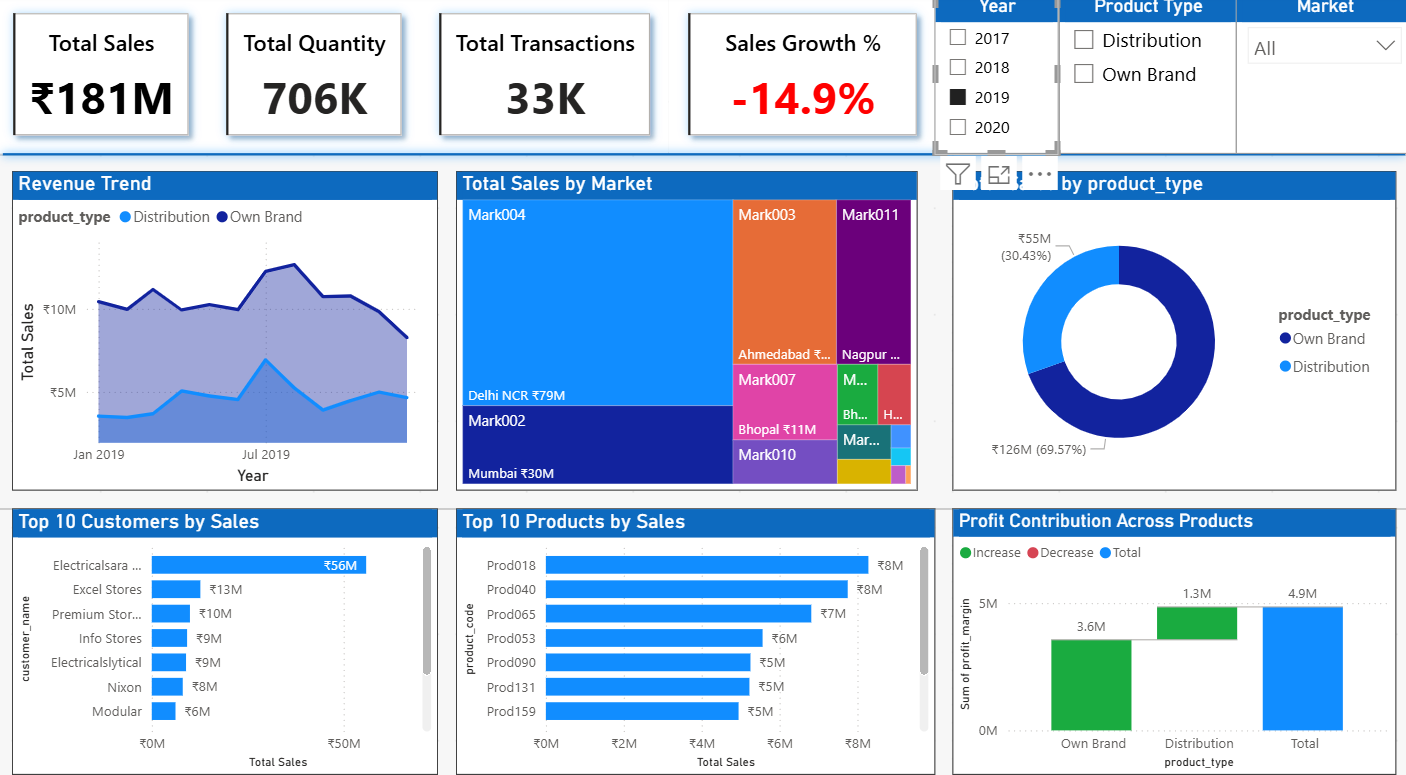

What the dashboard file says about the page in this screenshot:
{"tool":"powerbi","page":{"name":"Page 1","canvas":[1280,720],"ordinal":0},"visuals":[{"type":"shape","box":[0,0,1280,144],"z":0},{"type":"shape","box":[0,144,1280,320],"z":1000},{"type":"shape","box":[0,464,1280,256],"z":2000},{"type":"cardVisual","title":"Total Sales","fields":{"Data":["transactions.Total Sales"]},"box":[0,0,192,144],"z":3000},{"type":"cardVisual","title":"Total Sales","fields":{"Data":["transactions.Sales Growth %"]},"box":[608,0,240,144],"z":4000},{"type":"cardVisual","title":"Total Sales","fields":{"Data":["transactions.Total Quantity"]},"box":[192,0,192,144],"z":5000},{"type":"cardVisual","title":"Total Sales","fields":{"Data":["transactions.Total Transactions"]},"box":[384,0,224,144],"z":6000},{"type":"shape","box":[0,128,1280,32],"z":7000},{"type":"clusteredBarChart","title":"Top 10 Products by Sales","fields":{"Category":["transactions.product_code"],"Y":["transactions.Total Sales"]},"box":[416,464,432,240],"z":8000},{"type":"treemap","title":"Total Sales by Market","fields":{"Group":["transactions.market_code"],"Values":["transactions.Total Sales"],"Details":["markets.markets_name"]},"box":[416,160,416,288],"z":9000},{"type":"clusteredBarChart","title":"Top 10 Customers by Sales","fields":{"Category":["customers.customer_name"],"Y":["transactions.Total Sales"]},"box":[16,464,384,240],"z":10000},{"type":"donutChart","fields":{"Y":["transactions.Total Sales"],"Category":["products.product_type"]},"box":[864,160,400,288],"z":11000},{"type":"lineChart","title":"Revenue Trend","fields":{"Y":["transactions.Total Sales"],"Category":["date.cy_date.Variation.Date Hierarchy.Year","date.cy_date.Variation.Date Hierarchy.Month"],"Series":["products.product_type"]},"box":[16,160,384,288],"z":12000},{"type":"slicer","title":"Year","fields":{"Values":["date.year"]},"box":[848,0,112,144],"z":13000},{"type":"slicer","title":"Product Type","fields":{"Values":["products.product_type"]},"box":[960,0,160,144],"z":14000},{"type":"slicer","title":"Market","fields":{"Values":["markets.markets_name"]},"box":[1120,0,160,144],"z":15000},{"type":"waterfallChart","title":"Profit Contribution Across Products","fields":{"Category":["products.product_type"],"Y":["Sum(transactions.profit_margin)"]},"box":[864,464,400,240],"z":16000}]}

Visuals, with their boxes in screenshot pixels (x1, y1, x2, y2), scaled from the page's 1280x720 canvas onto the 1406x775 screenshot:
shape: detection(0, 0, 1405, 155)
shape: detection(0, 155, 1405, 499)
shape: detection(0, 499, 1405, 774)
"Total Sales" cardVisual: detection(0, 0, 211, 155)
"Total Sales" cardVisual: detection(668, 0, 931, 155)
"Total Sales" cardVisual: detection(211, 0, 422, 155)
"Total Sales" cardVisual: detection(422, 0, 668, 155)
shape: detection(0, 138, 1405, 172)
"Top 10 Products by Sales" clusteredBarChart: detection(457, 499, 931, 758)
"Total Sales by Market" treemap: detection(457, 172, 914, 482)
"Top 10 Customers by Sales" clusteredBarChart: detection(18, 499, 439, 758)
donutChart - transactions.Total Sales x products.product_type: detection(949, 172, 1388, 482)
"Revenue Trend" lineChart: detection(18, 172, 439, 482)
"Year" slicer: detection(931, 0, 1054, 155)
"Product Type" slicer: detection(1054, 0, 1230, 155)
"Market" slicer: detection(1230, 0, 1405, 155)
"Profit Contribution Across Products" waterfallChart: detection(949, 499, 1388, 758)
